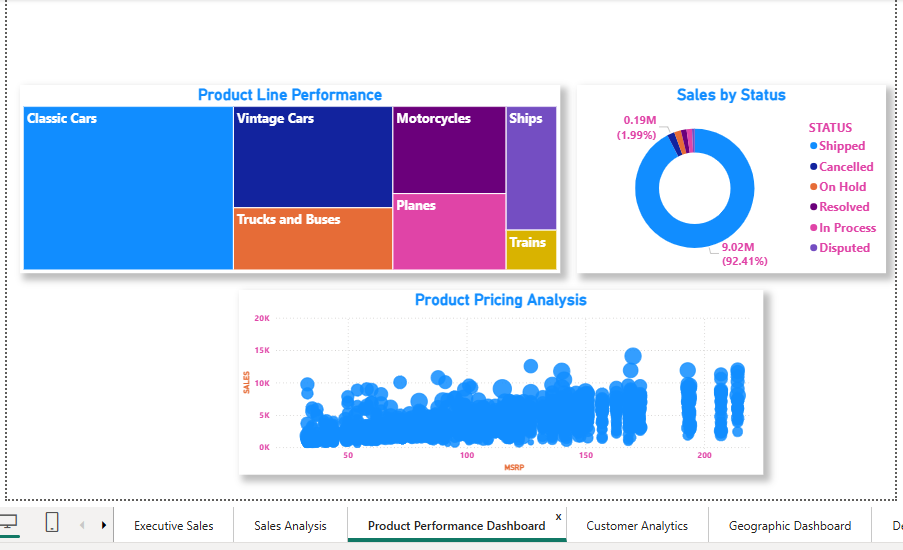

Layout of this report page (visuals, bound fields, positions):
{"tool":"powerbi","page":{"name":"Product Performance Dashboard","canvas":[1280,720],"ordinal":2},"visuals":[{"type":"treemap","title":"Product Line Performance","fields":{"Values":["Sum(Auto Sales data.SALES)"],"Group":["Auto Sales data.PRODUCTLINE"]},"box":[19,124.1,777.9,271.5],"z":0},{"type":"scatterChart","title":"Product Pricing Analysis","fields":{"X":["Auto Sales data.MSRP"],"Size":["Sum(Auto Sales data.QUANTITYORDERED)"],"Y":["Auto Sales data.SALES"]},"box":[334.2,418.9,754.6,265.6],"z":1000},{"type":"donutChart","title":"Sales by Status","fields":{"Category":["Auto Sales data.STATUS"],"Y":["Auto Sales data.Total Sales"]},"box":[820.3,124.1,445.2,271.5],"z":2000}]}

Visuals, with their boxes on the page's 1280x720 design canvas (x1, y1, x2, y2). These are canvas units, not pixel positions in the 903x550 screenshot, which may show the page scaled, cropped or inside an application window:
"Product Line Performance" treemap: BBox(19, 124, 797, 396)
"Product Pricing Analysis" scatterChart: BBox(334, 419, 1089, 684)
"Sales by Status" donutChart: BBox(820, 124, 1266, 396)
